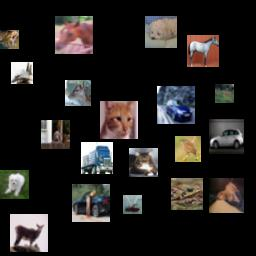airplane: (11, 62, 33, 84)
automobile: (72, 184, 110, 222), (157, 86, 195, 124), (209, 119, 244, 154)
bird: (175, 136, 201, 162)
cat: (100, 101, 138, 139), (129, 148, 158, 177)
deer: (10, 214, 48, 252), (65, 80, 91, 106), (215, 84, 234, 103)
dog: (209, 178, 244, 213), (145, 16, 177, 48), (0, 170, 29, 199), (41, 120, 70, 149)
frog: (171, 178, 203, 210), (0, 30, 19, 49)
ship: (123, 195, 142, 214)
truck: (81, 142, 113, 174)
